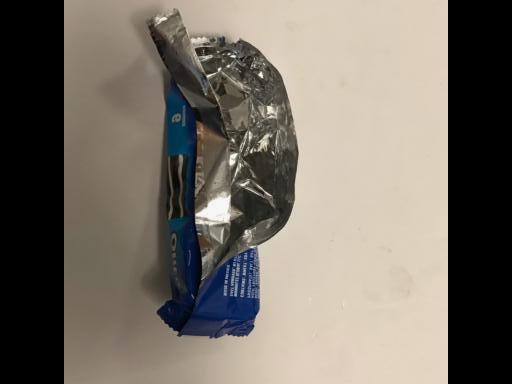trash: (149, 10, 300, 341)
